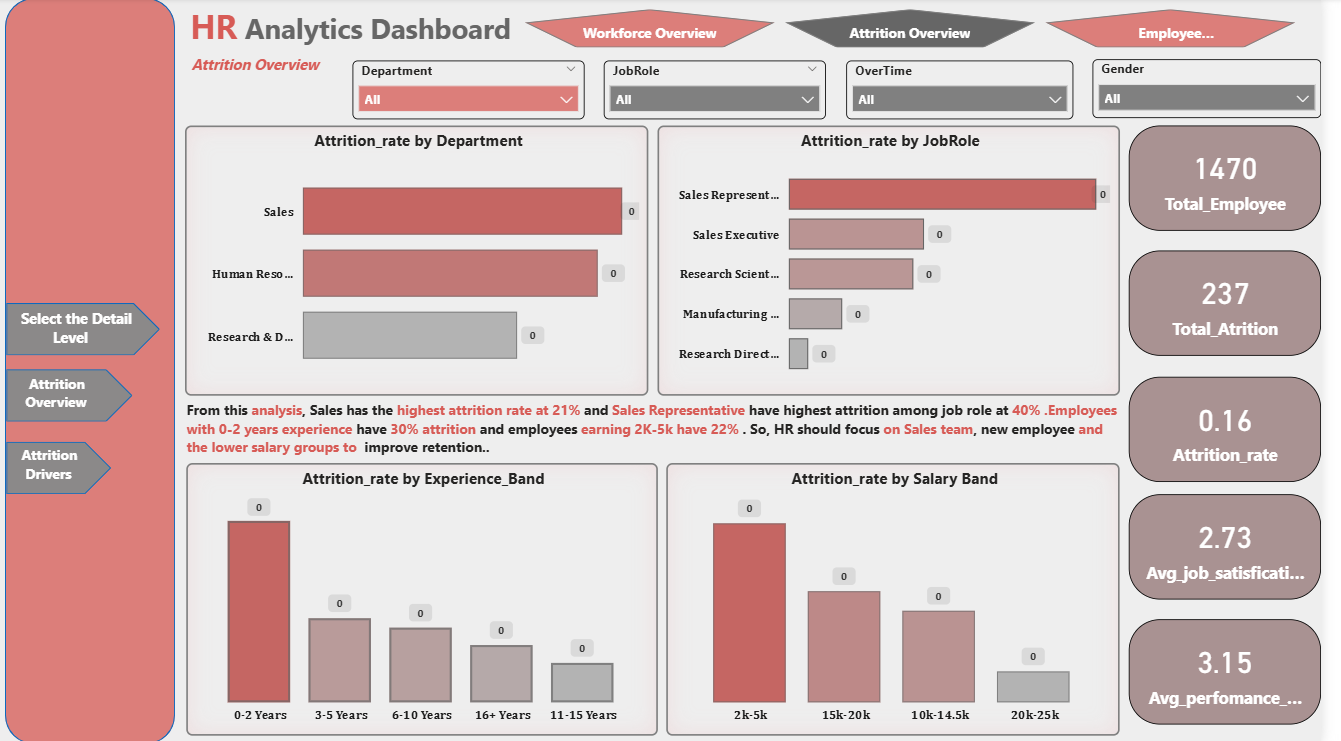

Layout of this report page (visuals, bound fields, positions):
{"tool":"powerbi","page":{"name":"Attrition Overview","canvas":[1280,720],"ordinal":1},"visuals":[{"type":"shape","box":[9.6,0,164.1,720.2],"z":0,"group":"g1"},{"type":"textbox","box":[183.4,0,359.5,57.9],"z":0},{"type":"barChart","fields":{"Category":["HR Analytics Data.Department"],"Y":["Measure_Table.Attrition_rate"]},"box":[183.4,123.1,447.6,260.6],"z":1000},{"type":"barChart","fields":{"Category":["HR Analytics Data.JobRole"],"Y":["Measure_Table.Attrition_rate"]},"box":[639.4,123.1,446.4,260.6],"z":2000},{"type":"columnChart","fields":{"Category":["HR Analytics Data.Experience_Band"],"Y":["Measure_Table.Attrition_rate"]},"box":[184.6,448.8,454.8,263],"z":3000},{"type":"columnChart","fields":{"Y":["Measure_Table.Attrition_rate"],"Category":["HR Analytics Data.Salary Band"]},"box":[647.9,448.8,437.9,263],"z":4000},{"type":"pageNavigator","box":[511.5,10.9,744.4,37.4],"z":5000},{"type":"slicer","fields":{"Values":["HR Analytics Data.Department"]},"box":[345,60.3,224.4,56.7],"z":6000},{"type":"slicer","fields":{"Values":["HR Analytics Data.JobRole"]},"box":[587.9,60.3,214.7,56.7],"z":7000},{"type":"slicer","fields":{"Values":["HR Analytics Data.OverTime"]},"box":[821.2,60.3,219.6,56.7],"z":8000},{"type":"slicer","fields":{"Values":["HR Analytics Data.Gender"]},"box":[1059.2,59.1,220.8,56.7],"z":9000},{"type":"card","fields":{"Values":["Measure_Table.Total_Employee"]},"box":[1094.2,123.1,185.8,101.3],"z":11000},{"type":"card","fields":{"Values":["Measure_Table.Total_Atrition"]},"box":[1094.2,243.7,185.8,101.3],"z":12000},{"type":"card","fields":{"Values":["Measure_Table.Attrition_rate"]},"box":[1094.2,365.6,185.8,101.3],"z":13000},{"type":"card","fields":{"Values":["Measure_Table.Avg_job_satisfication"]},"box":[1094.2,479,185.8,101.3],"z":14000},{"type":"card","fields":{"Values":["Measure_Table.Avg_perfomance_Rating"]},"box":[1094.2,599.6,185.8,101.3],"z":15000},{"type":"textbox","box":[184.6,49.5,143.6,39.8],"z":16000},{"type":"textbox","box":[8.4,428.3,95.3,55.5],"z":17000},{"type":"group","id":"g1","title":"Group 1","box":[8.4,0,165.3,720.2],"z":18000},{"type":"shape","box":[10.8,294.4,148.4,50.7],"z":18000,"group":"g1"},{"type":"textbox","box":[8.4,294.4,138.7,50.7],"z":19000,"group":"g1"},{"type":"textbox","box":[17.4,427,73.2,52.1],"z":19000},{"type":"shape","box":[10.8,358.3,121.9,50.7],"z":20000,"group":"g1"},{"type":"shape","box":[10.8,428.3,101.3,50.7],"z":21000,"group":"g1"},{"type":"textbox","box":[16.8,358.3,95.3,55.5],"z":22000,"group":"g1"},{"type":"textbox","box":[179.3,383.2,915.3,73.7],"z":24000}]}

Visuals, with their boxes in screenshot pixels (x1, y1, x2, y2), scaled from the page's 1280x720 canvas onto the 1341x741 screenshot:
shape: x1=10, y1=0, x2=182, y2=740
textbox: x1=192, y1=0, x2=569, y2=60
barChart - HR Analytics Data.Department x Measure_Table.Attrition_rate: x1=192, y1=127, x2=661, y2=395
barChart - HR Analytics Data.JobRole x Measure_Table.Attrition_rate: x1=670, y1=127, x2=1138, y2=395
columnChart - HR Analytics Data.Experience_Band x Measure_Table.Attrition_rate: x1=193, y1=462, x2=670, y2=733
columnChart - Measure_Table.Attrition_rate x HR Analytics Data.Salary Band: x1=679, y1=462, x2=1138, y2=733
pageNavigator: x1=536, y1=11, x2=1316, y2=50
slicer - HR Analytics Data.Department: x1=361, y1=62, x2=597, y2=120
slicer - HR Analytics Data.JobRole: x1=616, y1=62, x2=841, y2=120
slicer - HR Analytics Data.OverTime: x1=860, y1=62, x2=1090, y2=120
slicer - HR Analytics Data.Gender: x1=1110, y1=61, x2=1340, y2=119
card - Measure_Table.Total_Employee: x1=1146, y1=127, x2=1340, y2=231
card - Measure_Table.Total_Atrition: x1=1146, y1=251, x2=1340, y2=355
card - Measure_Table.Attrition_rate: x1=1146, y1=376, x2=1340, y2=481
card - Measure_Table.Avg_job_satisfication: x1=1146, y1=493, x2=1340, y2=597
card - Measure_Table.Avg_perfomance_Rating: x1=1146, y1=617, x2=1340, y2=721
textbox: x1=193, y1=51, x2=344, y2=92
textbox: x1=9, y1=441, x2=109, y2=498
"Group 1" group: x1=9, y1=0, x2=182, y2=740
shape: x1=11, y1=303, x2=167, y2=355
textbox: x1=9, y1=303, x2=154, y2=355
textbox: x1=18, y1=439, x2=95, y2=493
shape: x1=11, y1=369, x2=139, y2=421
shape: x1=11, y1=441, x2=117, y2=493
textbox: x1=18, y1=369, x2=117, y2=426
textbox: x1=188, y1=394, x2=1147, y2=470
